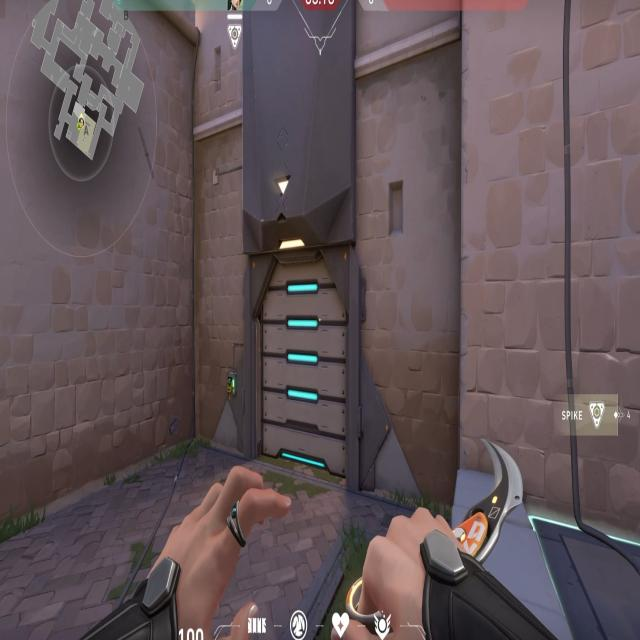A_Door: (235, 225, 362, 503)
